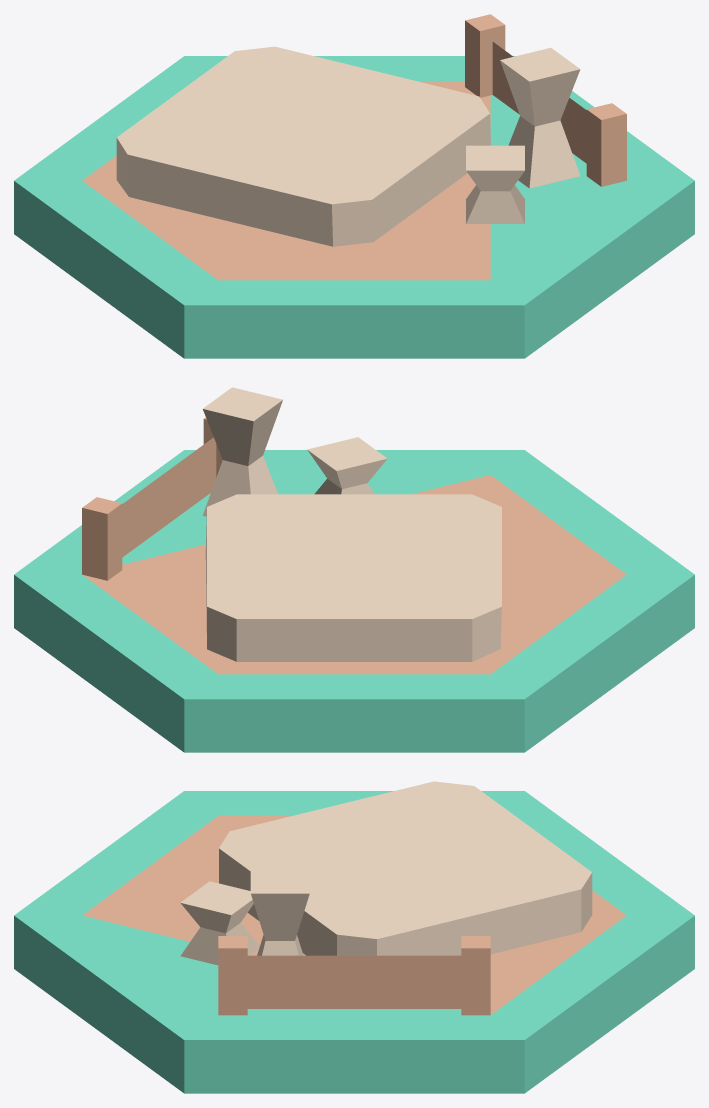
Rendered from Farm.fbx.
3 views of the same model, one above another, from view 1: azimuth 30°, elevation 25°; view 2: azimuth 150°, elevation 25°; view 3: azimuth 270°, elevation 25° (orthographic).
Parts seen in each view (by area): view 1: building_farm; view 2: building_farm; view 3: building_farm.
Boxes of the visible parts, <box> form: building_farm: <box>14,14,694,358</box>; building_farm: <box>14,387,694,752</box>; building_farm: <box>14,781,694,1093</box>.
Bounding box in the file's own units: 100 × 30 × 115.
